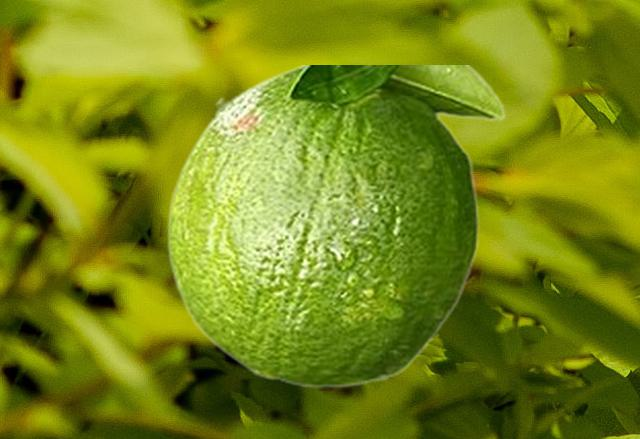dalandan: (166, 65, 505, 387)
